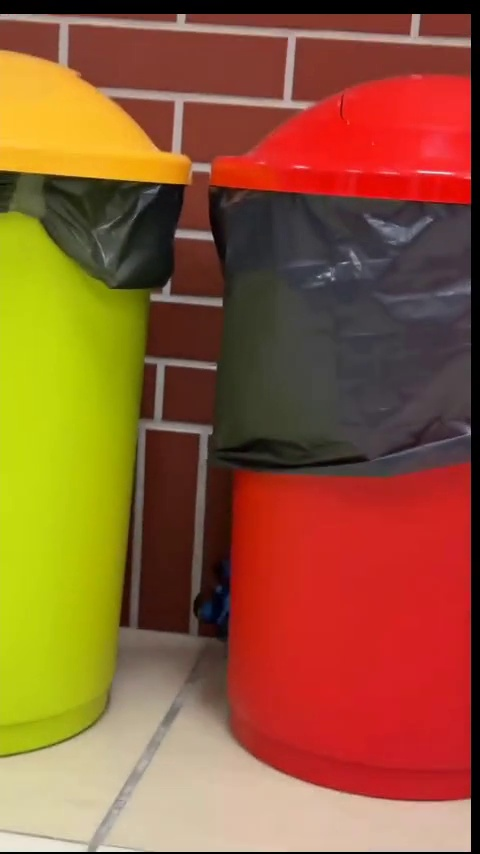drone: (192, 559, 230, 627)
